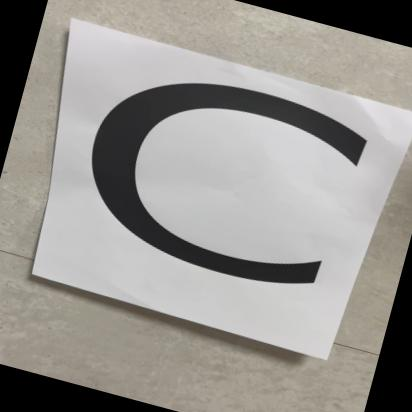seat: (10, 17, 412, 355)
